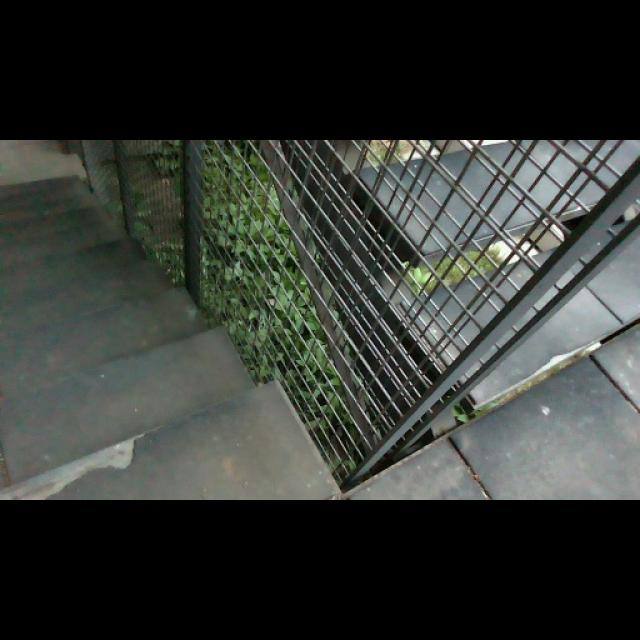stair: (0, 190, 291, 493)
